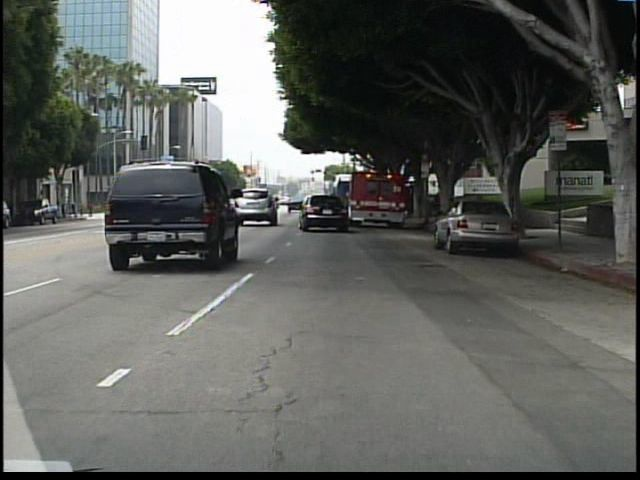person: (76, 196, 88, 220), (86, 198, 98, 220)
